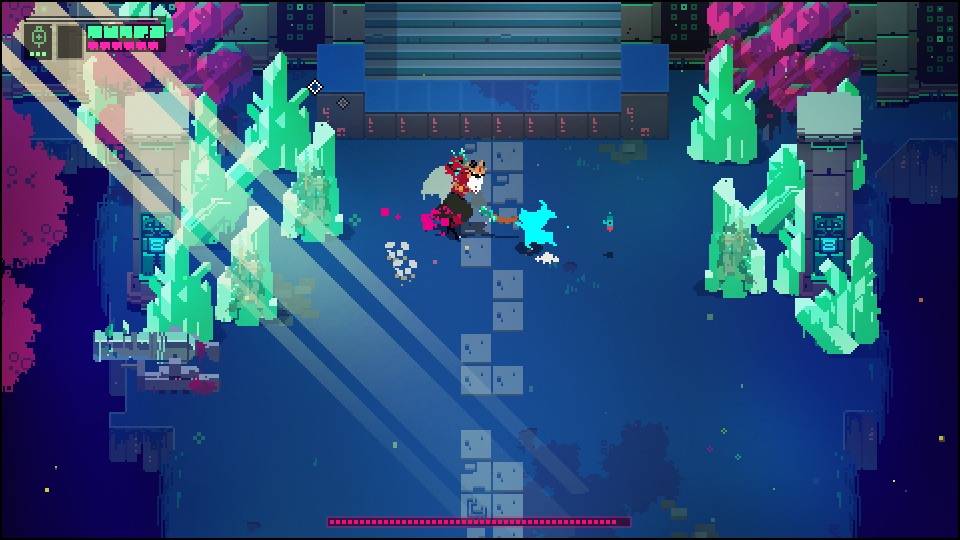hanged_man: (420, 142, 502, 234)
player: (516, 202, 563, 253)
